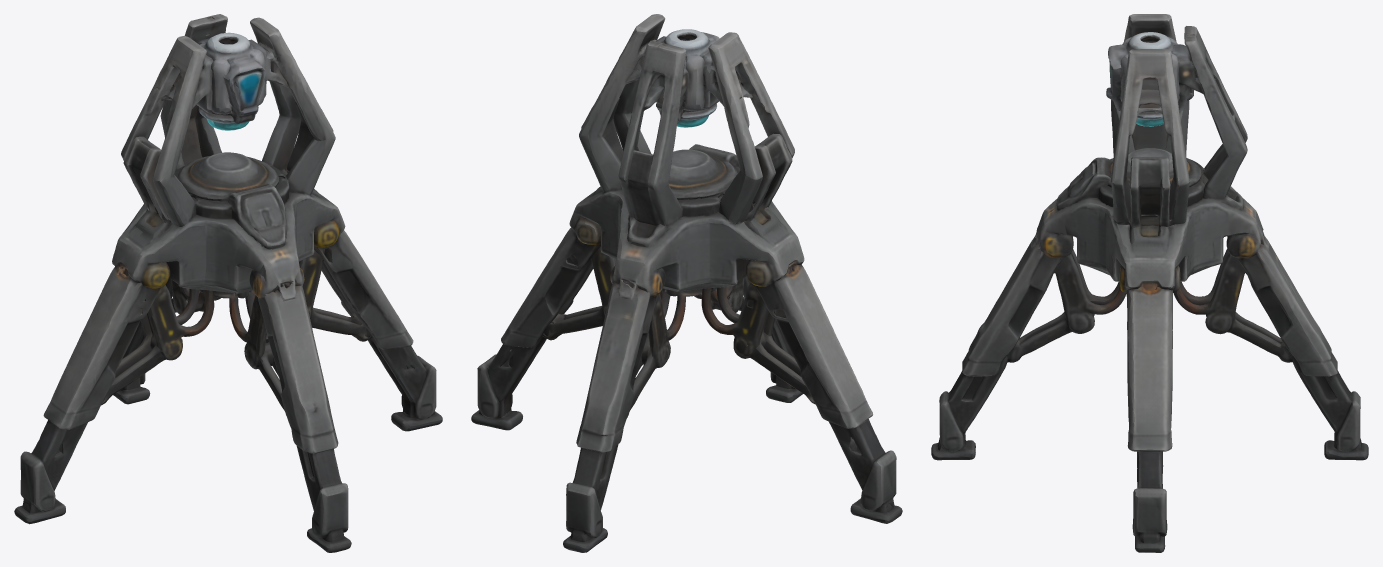
The model's file is lantern.glb.
The picture shows the model from 3 angles, left to right: view 1: azimuth 30°, elevation 25°; view 2: azimuth 150°, elevation 25°; view 3: azimuth 270°, elevation 25°; orthographic projection. The views are drawn at different scales.
Parts seen in each view (by area): view 1: world; view 2: world; view 3: world.
Part boxes in pixels (x1,y1,x2,y2): world: [14, 14, 442, 552]; world: [471, 14, 902, 552]; world: [931, 14, 1368, 552].
Size of the model in its own units: 1.81 by 1.8 by 1.69.
1 material, 1 textured.
